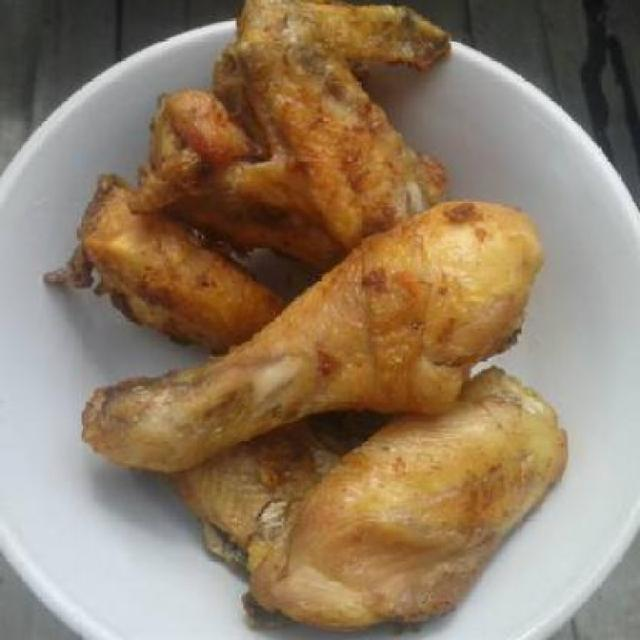Wet Waste: (91, 202, 546, 482), (177, 363, 571, 639), (132, 0, 446, 248), (78, 182, 276, 338)
